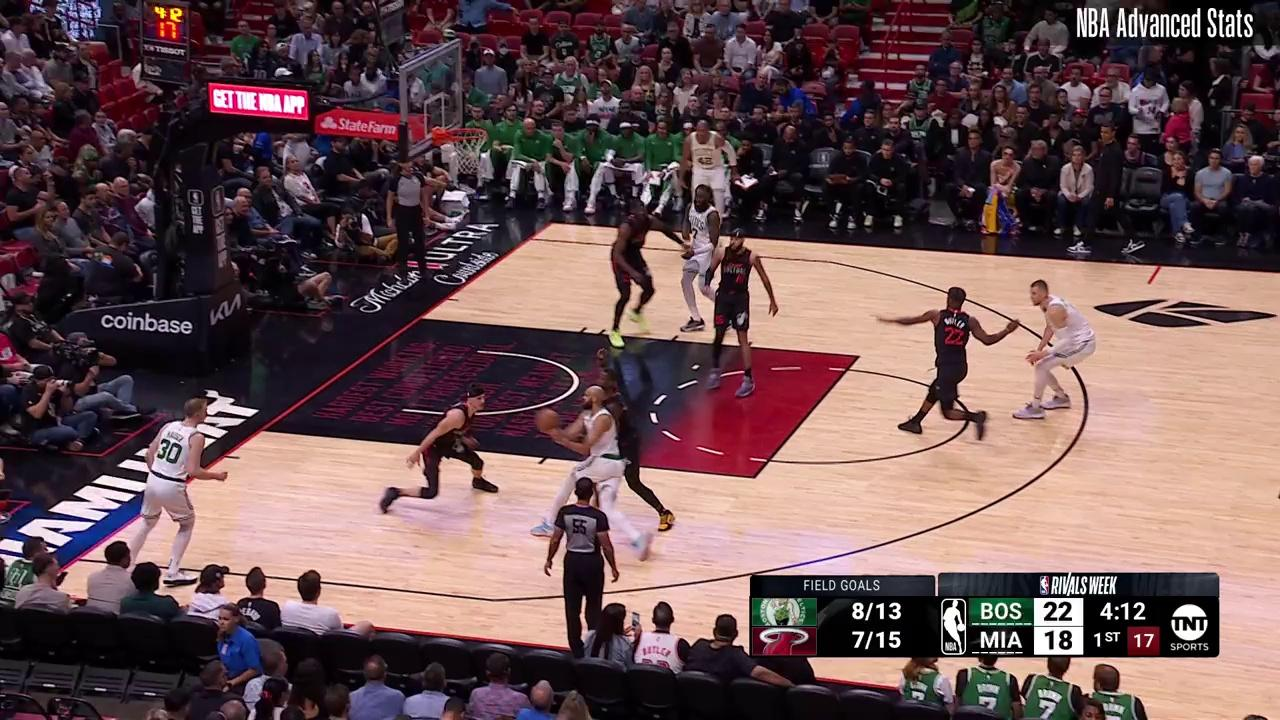3_dx: (525, 235, 533, 243)
3_sx: (71, 552, 83, 565)
b_dx: (546, 220, 554, 226)
free_adx: (853, 353, 862, 361)
free_asx: (749, 473, 760, 482)
free_bdx: (414, 313, 425, 323)
free_bsx: (255, 426, 266, 436)
mid_dx: (1144, 280, 1153, 288)
referee: (542, 477, 621, 647), (385, 158, 436, 283)
team: (531, 383, 652, 561), (120, 395, 225, 585), (1011, 280, 1097, 418), (682, 121, 740, 245), (677, 187, 726, 332)
team1: (897, 286, 1014, 439), (575, 353, 675, 530), (377, 381, 500, 516), (705, 231, 776, 397), (608, 200, 678, 347)
timer: (1090, 593, 1155, 624)
